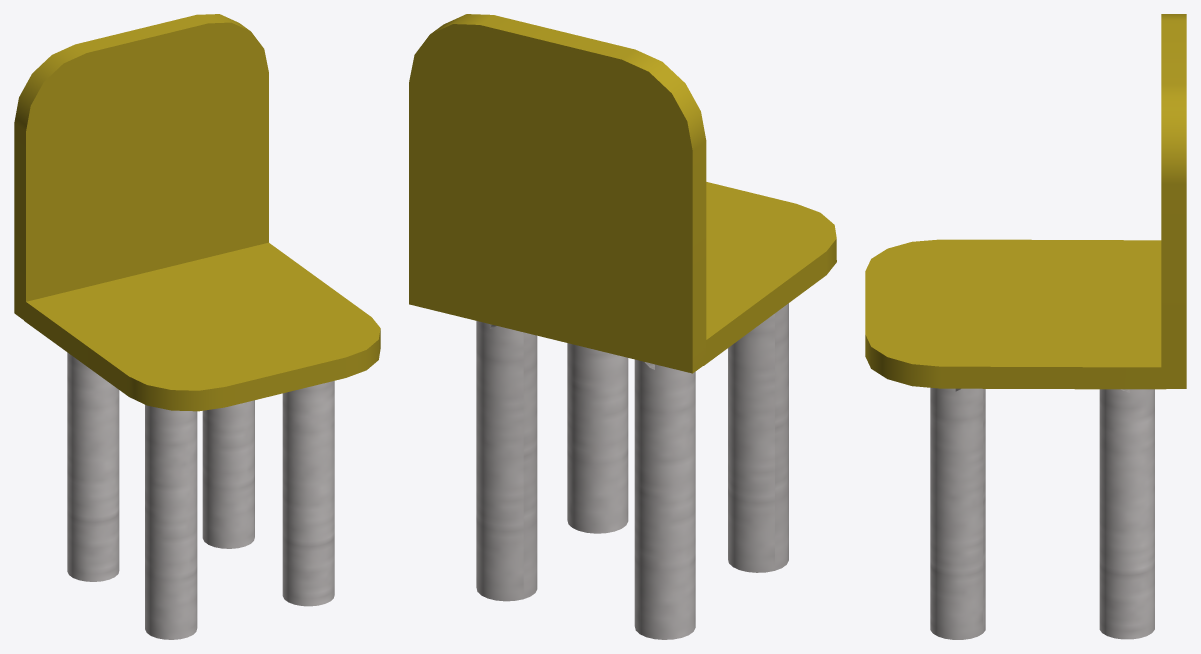
File: SillaCom.obj
3 renders of one model, left to right at view 1: azimuth 30°, elevation 25°; view 2: azimuth 150°, elevation 25°; view 3: azimuth 270°, elevation 25°, orthographic. The views are drawn at different scales.
Visible parts, largest first — view 1: TSillaCom:pCube2, BSillaCom:pCylinder3; view 2: TSillaCom:pCube2, BSillaCom:pCylinder3; view 3: TSillaCom:pCube2, BSillaCom:pCylinder3.
Boxes of the visible parts, left/top/right/bottom form: TSillaCom:pCube2: left=14, top=14, right=380, bottom=411; BSillaCom:pCylinder3: left=67, top=352, right=334, bottom=639; TSillaCom:pCube2: left=409, top=14, right=836, bottom=373; BSillaCom:pCylinder3: left=476, top=303, right=788, bottom=639; TSillaCom:pCube2: left=865, top=14, right=1186, bottom=389; BSillaCom:pCylinder3: left=930, top=387, right=1154, bottom=639.
Bounding box in the file's own units: 1 × 1.98 × 1.07.
2 materials, 2 textured.
